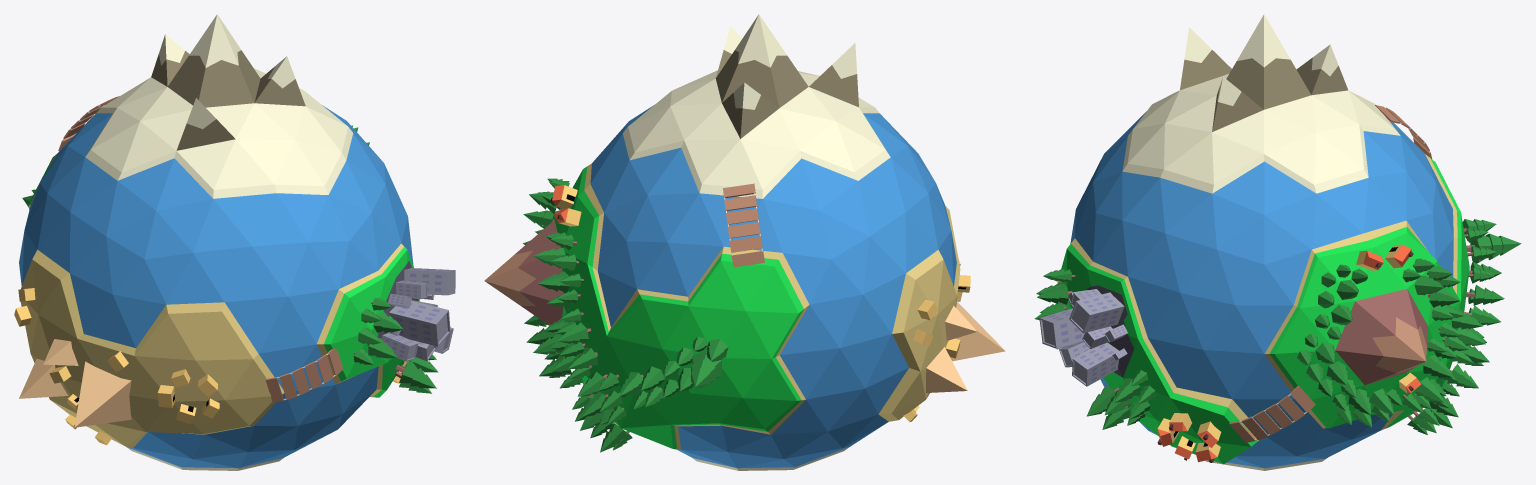
The picture shows the model from 3 angles, left to right: view 1: azimuth 30°, elevation 25°; view 2: azimuth 150°, elevation 25°; view 3: azimuth 270°, elevation 25°; orthographic projection.
Parts seen in each view (by area): view 1: Planet, Cone.003, Building, Cube.002, Cone.001, Building.004, Cone.002, Building.007, Cylinder.007, Building.005, Cube; view 2: Planet, Cube, Cone.001, Cone.003, Cone.236, Cone.002; view 3: Planet, Cube.001, Building.004, Building.001, Building, Cone.236, Cube.
Part boxes in pixels (x1=…): Planet: x1=19, y1=14, x2=419, y2=470; Cone.003: x1=74, y1=361, x2=131, y2=427; Building: x1=389, y1=301, x2=450, y2=346; Cube.002: x1=265, y1=348, x2=343, y2=402; Cone.001: x1=19, y1=358, x2=67, y2=398; Building.004: x1=404, y1=268, x2=455, y2=295; Cone.002: x1=43, y1=339, x2=78, y2=365; Building.007: x1=381, y1=333, x2=418, y2=361; Cylinder.007: x1=395, y1=360, x2=436, y2=388; Building.005: x1=396, y1=280, x2=427, y2=299; Cube: x1=58, y1=96, x2=119, y2=151; Planet: x1=484, y1=14, x2=960, y2=470; Cube: x1=723, y1=183, x2=764, y2=267; Cone.001: x1=926, y1=347, x2=967, y2=392; Cone.003: x1=950, y1=301, x2=1005, y2=361; Cone.236: x1=690, y1=350, x2=721, y2=387; Cone.002: x1=945, y1=306, x2=977, y2=340; Planet: x1=1060, y1=14, x2=1469, y2=470; Cube.001: x1=1229, y1=385, x2=1315, y2=442; Building.004: x1=1069, y1=292, x2=1124, y2=333; Building.001: x1=1072, y1=342, x2=1118, y2=386; Building: x1=1039, y1=308, x2=1084, y2=348; Cone.236: x1=1466, y1=233, x2=1521, y2=263; Cube: x1=1375, y1=105, x2=1431, y2=158.
Size of the model in its own units: 235 by 245 by 246.
